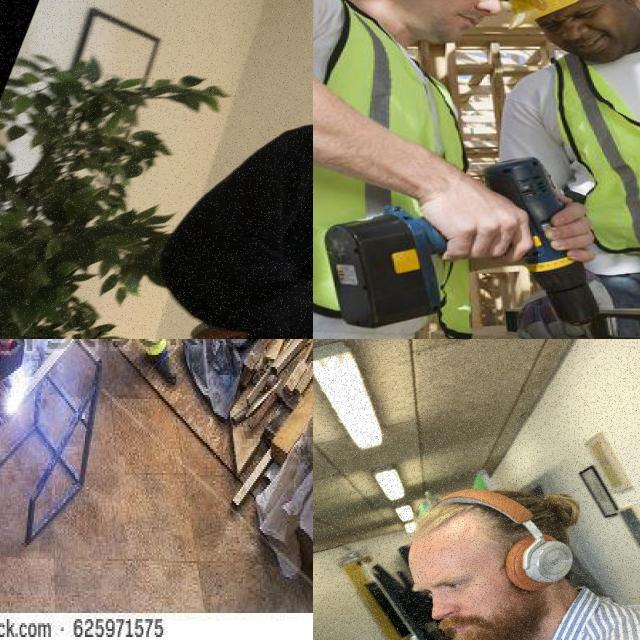Ear-protection: (376, 466, 610, 640)
No_Glasses: (537, 0, 625, 31)
face_nomask: (353, 0, 501, 45), (544, 4, 640, 63)
hand_noglove: (422, 188, 531, 260)
head_helmet: (511, 0, 580, 20)
